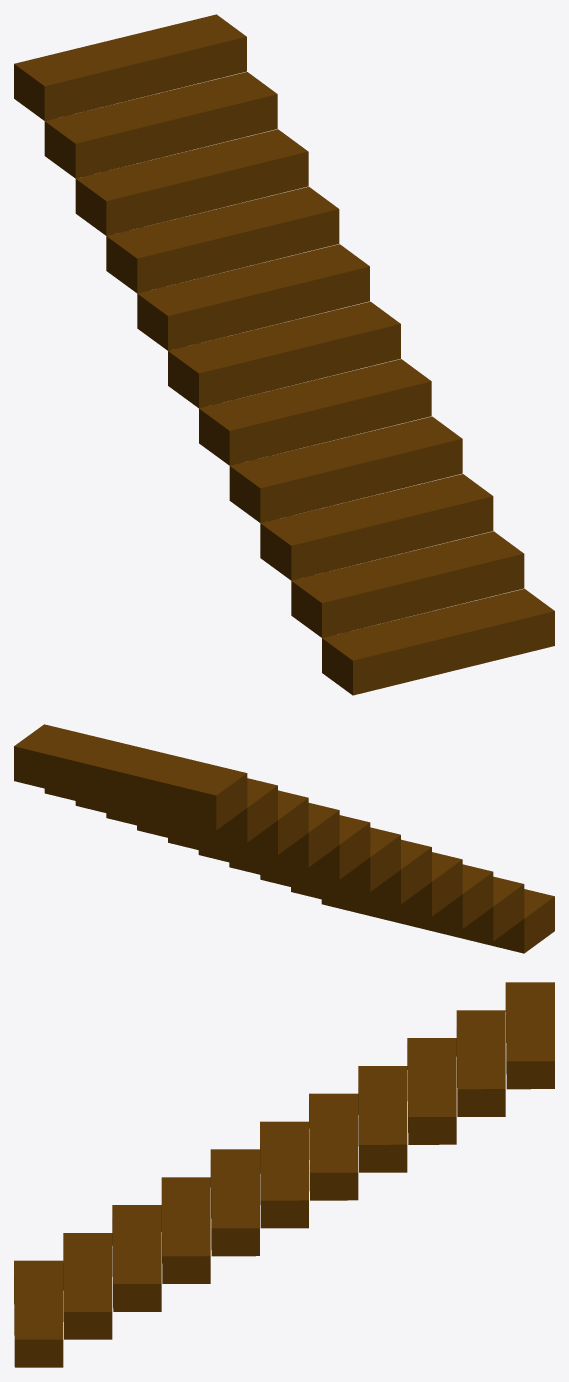
File: Stairs.obj
3 views of the same model, one above another, from view 1: azimuth 30°, elevation 25°; view 2: azimuth 150°, elevation 25°; view 3: azimuth 270°, elevation 25° (orthographic). The views are drawn at different scales.
Parts seen in each view (by area): view 1: Stairs; view 2: Stairs; view 3: Stairs.
Boxes of the visible parts, x1,y1,x2,y2 form: Stairs: (14,14,554,695); Stairs: (14,724,554,953); Stairs: (14,982,554,1367).
Bounding box in the file's own units: 194 × 351 × 562.
